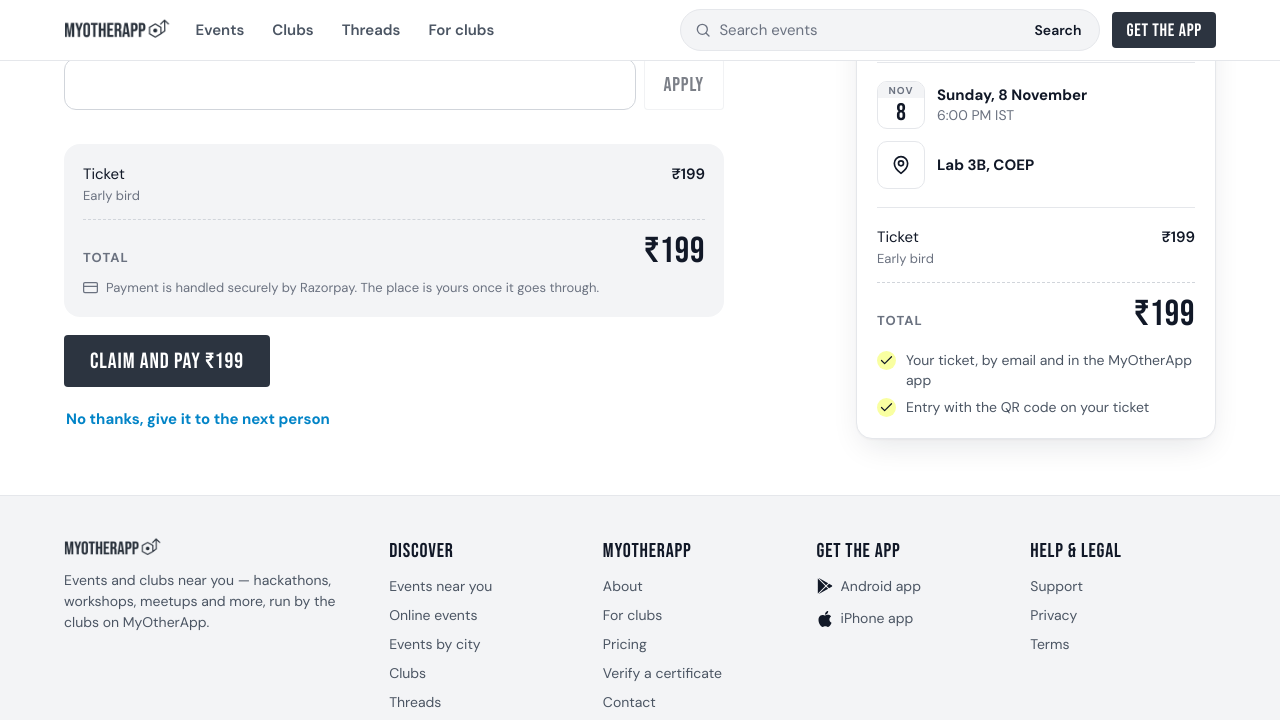
an offer standing › an offer that runs out while it is being claimed says so
(page scrolled)
Click the button "Claim and pay ₹199" at (167, 361), box x1=64 y1=335 x2=270 y2=387
(page scrolled)
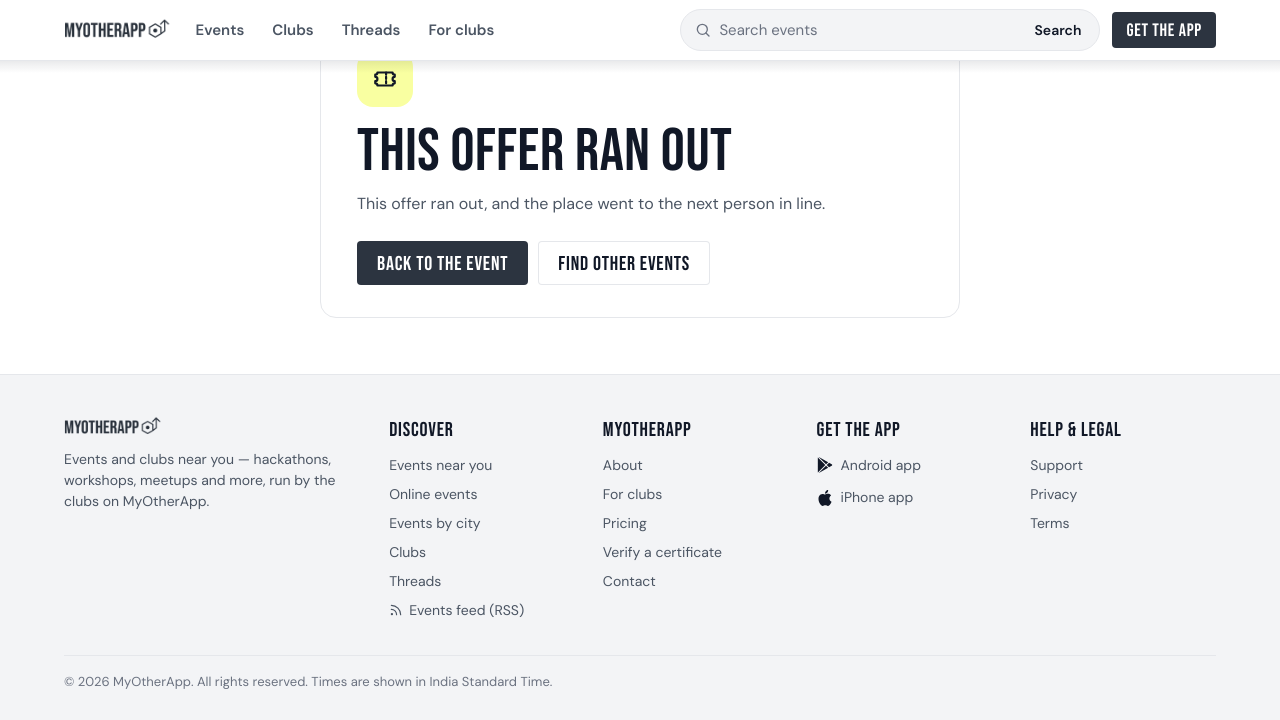
Check: the heading "This offer ran out" is shown, box x1=357 y1=116 x2=732 y2=188
